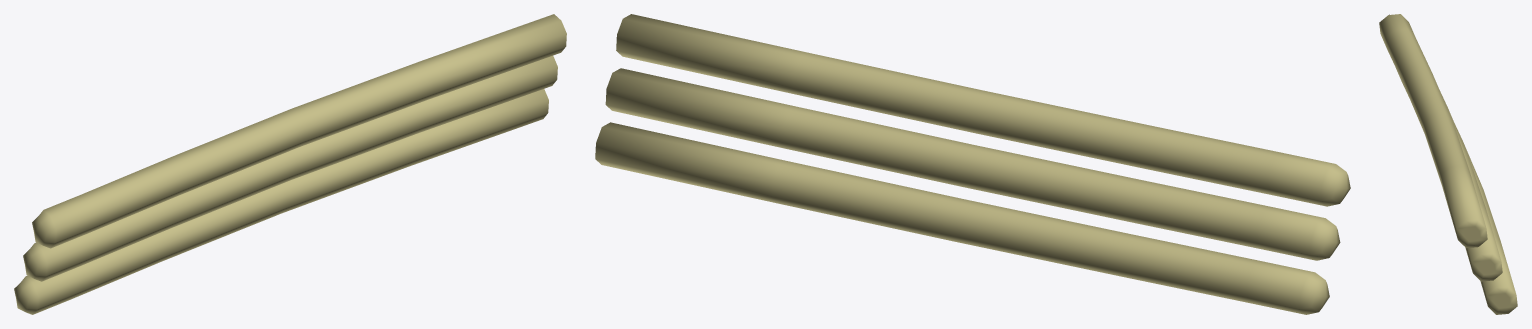
The model's file is Nervio_Vago_L.FBX.
3 renders of one model, left to right at view 1: azimuth 30°, elevation 25°; view 2: azimuth 150°, elevation 25°; view 3: azimuth 270°, elevation 25°, orthographic. The views are drawn at different scales.
Visible parts, largest first — view 1: Nerves_R8; view 2: Nerves_R8; view 3: Nerves_R8.
Boxes of the visible parts, x1,y1,x2,y2 form: Nerves_R8: (14,14,566,314); Nerves_R8: (595,14,1350,314); Nerves_R8: (1379,14,1517,314).
Size of the model in its own units: 0.1566 by 0.0366 by 0.0393.
